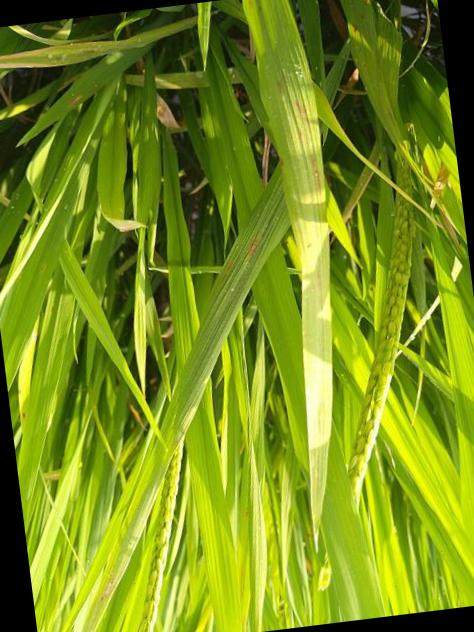Leaf Streak: (289, 81, 324, 193), (0, 39, 122, 68), (242, 231, 261, 261), (277, 70, 285, 97), (224, 260, 234, 274)
